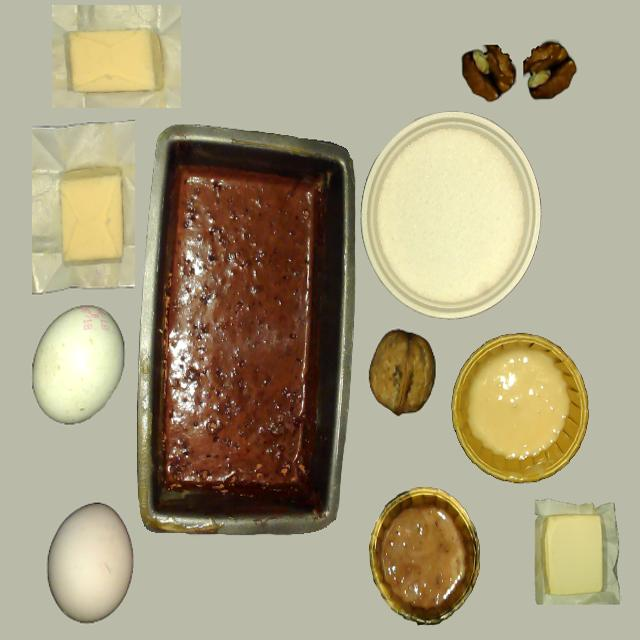Sugar: (374, 126, 524, 310)
Walnut: (368, 333, 434, 413)
